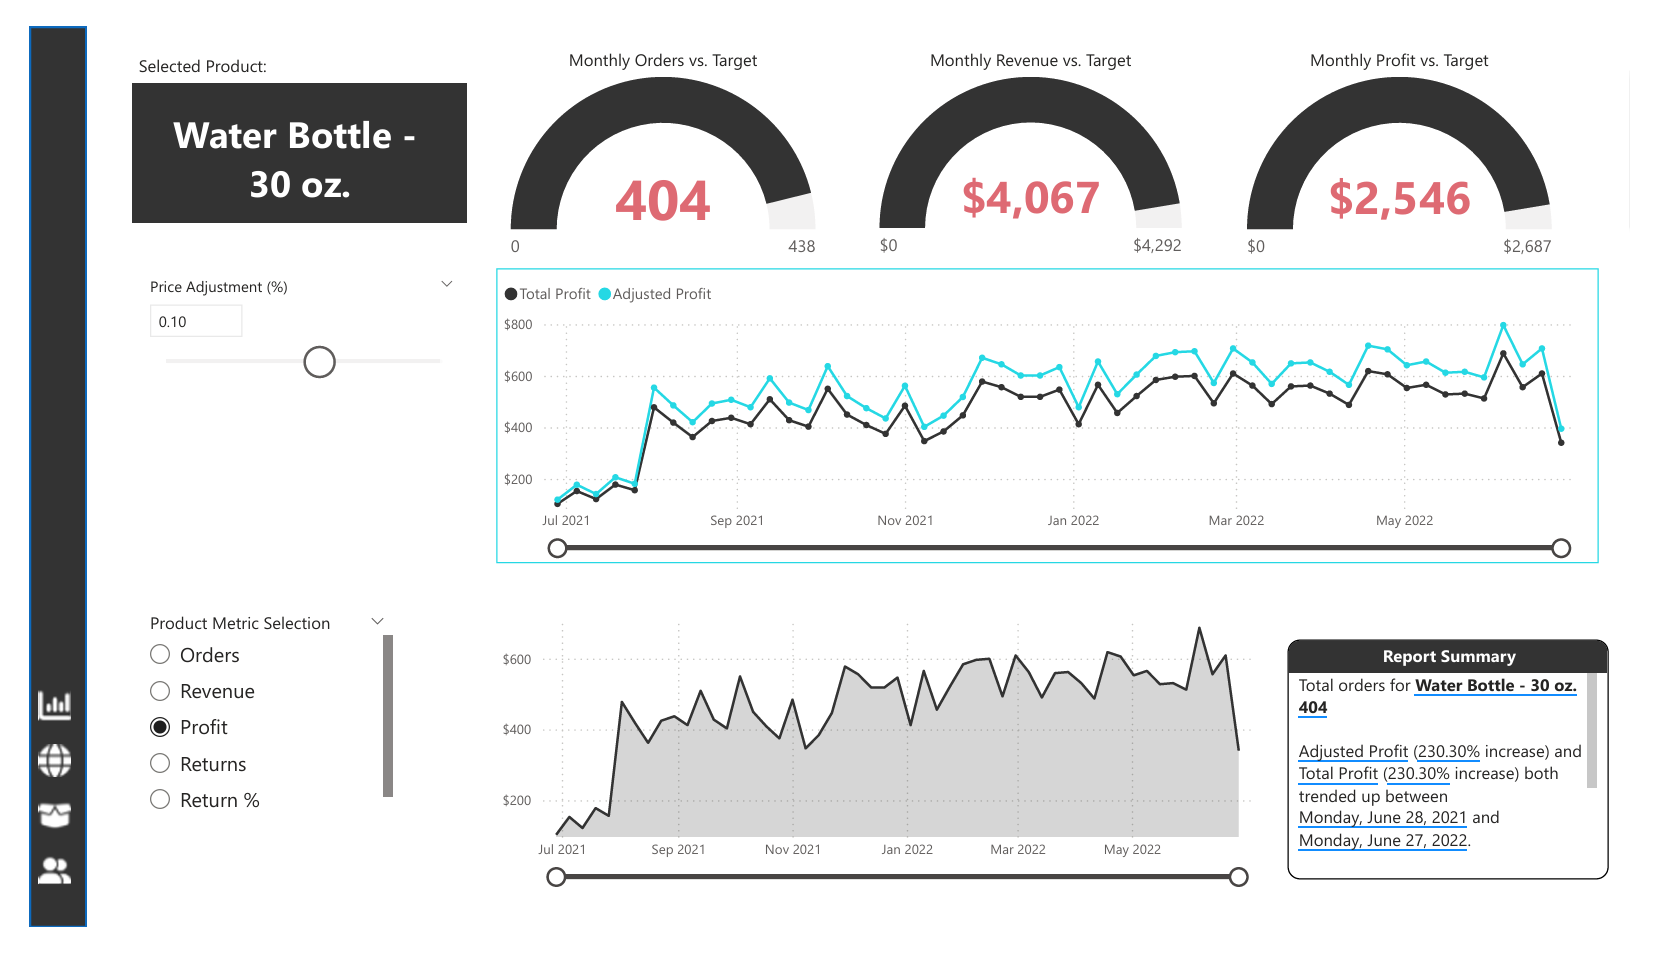

The dashboard page shown, as its layout file describes it:
{"tool":"powerbi","page":{"name":"Product Detail","canvas":[1280,720],"ordinal":2},"visuals":[{"type":"shape","box":[0,0,45,720.3],"z":0},{"type":"gauge","title":"Monthly Orders vs. Target","fields":{"Y":["Measure Table.Total Orders"],"MaxValue":["Measure Table.Order Target"]},"box":[372.9,17.1,267.1,176.4],"z":1000},{"type":"actionButton","box":[3.1,525.8,38.1,34],"z":1000,"group":"g1"},{"type":"gauge","title":"Monthly Revenue vs. Target","fields":{"Y":["Measure Table.Total Revenue"],"MaxValue":["Measure Table.Revenue Target"]},"box":[667.3,17.1,267,175.8],"z":2000},{"type":"actionButton","box":[3.1,569.8,38.1,34],"z":2000,"group":"g1"},{"type":"gauge","title":"Monthly Profit vs. Target","fields":{"Y":["Measure Table.Total Profit"],"MaxValue":["Measure Table.Profit Target"]},"box":[961.5,17.1,267.1,176.4],"z":3000},{"type":"actionButton","box":[3.1,613.8,38.1,34],"z":3000,"group":"g1"},{"type":"lineChart","title":"Profit Trending","fields":{"Category":["Calendar Lookup.Date Hierarchy.Start of Year","Calendar Lookup.Date Hierarchy.Start of Month","Calendar Lookup.Date Hierarchy.Start of Week","Calendar Lookup.Date Hierarchy.Date"],"Y":["Measure Table.Total Profit","Measure Table.Adjusted Profit"]},"box":[372.5,192.5,882.1,236.4],"z":4000},{"type":"actionButton","box":[3.1,657.8,38.1,34],"z":4000,"group":"g1"},{"type":"areaChart","title":"Return Trending","fields":{"Y":["Measure Table.Total Profit"],"Category":["Calendar Lookup.Start of Week"]},"box":[372.5,463,623.3,228.4],"z":5000},{"type":"card","fields":{"Values":["Min(Product Lookup.ProductName)"]},"box":[81.6,45.4,268.1,111.9],"z":6000},{"type":"textbox","box":[81.6,17.1,131,32.3],"z":7000},{"type":"group","id":"g1","title":"Navigation Buttons","box":[3.1,525.8,38.1,166],"z":8000},{"type":"slicer","fields":{"Values":["Price Adjustment (%).Price Adjustment (%)"]},"box":[82.6,193.5,268.1,117.9],"z":9000},{"type":"slicer","fields":{"Values":["Product Metric Selection.Product Metric Selection"]},"box":[82.9,463.4,213.5,169.2],"z":10000},{"type":"textbox","title":"Report Summary","box":[1005.6,490.3,257.2,191.9],"z":11000}]}

Visuals, with their boxes on the page's 1280x720 design canvas (x1, y1, x2, y2). These are canvas units, not pixel positions in the 1660x955 screenshot, which may show the page scaled, cropped or inside an application window:
shape: [x1=0, y1=0, x2=45, y2=720]
"Monthly Orders vs. Target" gauge: [x1=373, y1=17, x2=640, y2=194]
actionButton: [x1=3, y1=526, x2=41, y2=560]
"Monthly Revenue vs. Target" gauge: [x1=667, y1=17, x2=934, y2=193]
actionButton: [x1=3, y1=570, x2=41, y2=604]
"Monthly Profit vs. Target" gauge: [x1=962, y1=17, x2=1229, y2=194]
actionButton: [x1=3, y1=614, x2=41, y2=648]
"Profit Trending" lineChart: [x1=372, y1=192, x2=1255, y2=429]
actionButton: [x1=3, y1=658, x2=41, y2=692]
"Return Trending" areaChart: [x1=372, y1=463, x2=996, y2=691]
card - Min(Product Lookup.ProductName): [x1=82, y1=45, x2=350, y2=157]
textbox: [x1=82, y1=17, x2=213, y2=49]
"Navigation Buttons" group: [x1=3, y1=526, x2=41, y2=692]
slicer - Price Adjustment (%).Price Adjustment (%): [x1=83, y1=194, x2=351, y2=311]
slicer - Product Metric Selection.Product Metric Selection: [x1=83, y1=463, x2=296, y2=633]
"Report Summary" textbox: [x1=1006, y1=490, x2=1263, y2=682]
